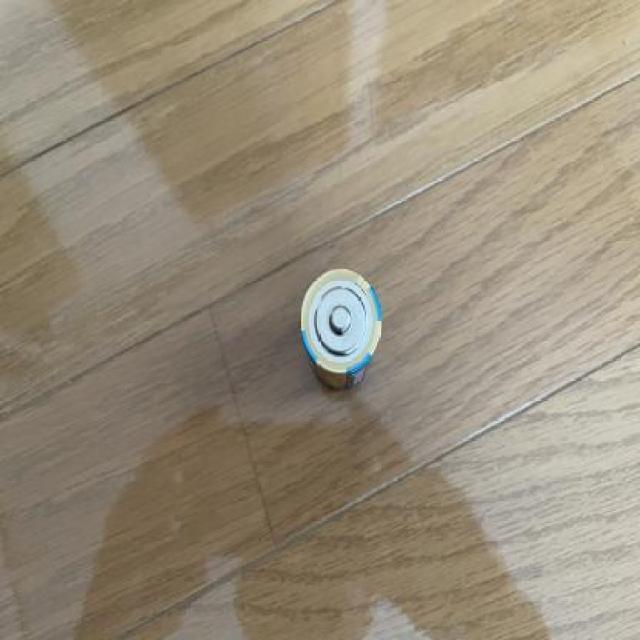AA: (297, 263, 388, 394)
